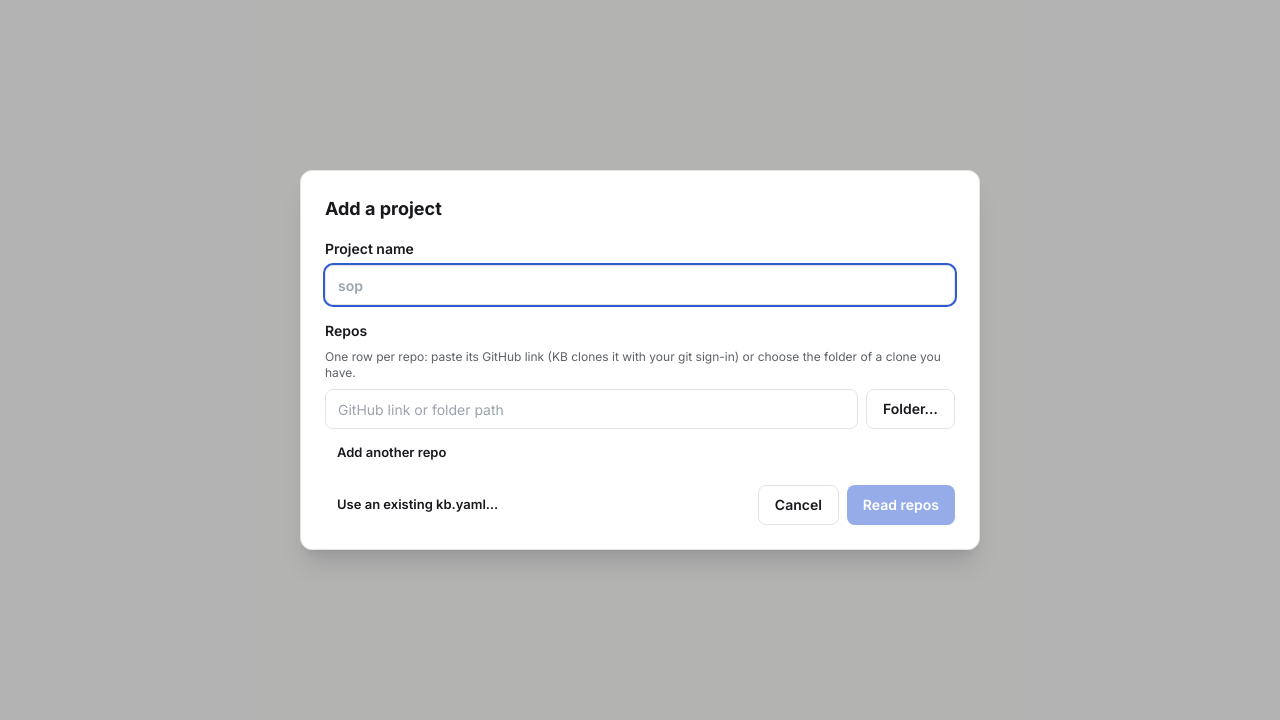
Test case: folder_picker_fills_the_row
Click the button with aria-label "Choose folder for repo 1" at x=910, y=409, box [866,389,955,429]
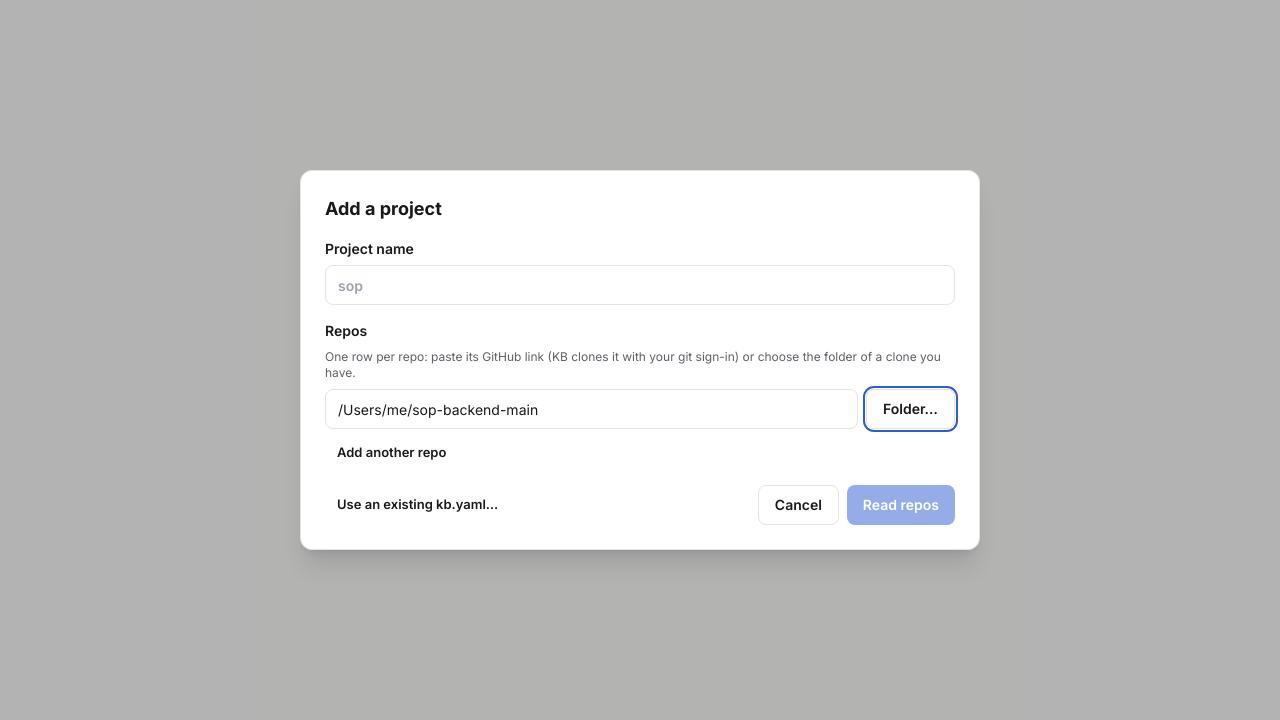
Result: the field named "Repo 1" holds "/Users/me/sop-backend-main" at [325,389,858,429]
